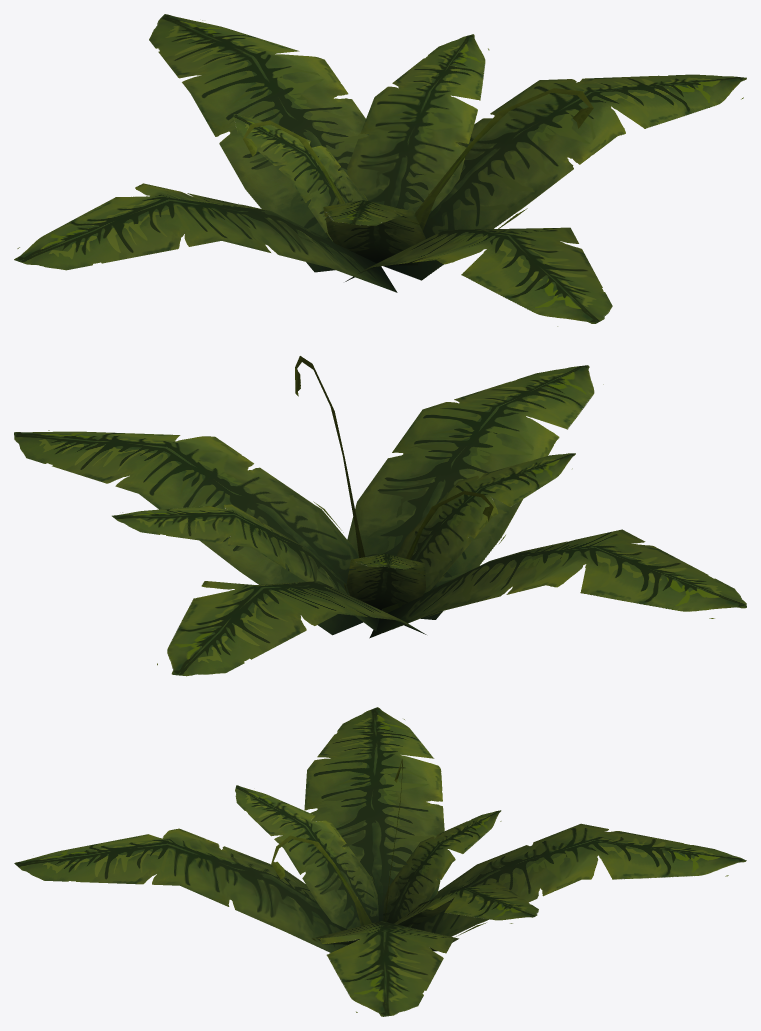
File: fanasty_mod_fern.fbx
The picture shows the model from 3 angles, top to bottom: view 1: azimuth 30°, elevation 25°; view 2: azimuth 150°, elevation 25°; view 3: azimuth 270°, elevation 25°; orthographic projection. The views are drawn at different scales.
Parts seen in each view (by area): view 1: fern; view 2: fern; view 3: fern.
Part boxes in pixels (box(x1,y1,x2,y2)): fern: box(14, 14, 746, 326); fern: box(14, 356, 746, 676); fern: box(14, 707, 746, 1016).
Size of the model in its own units: 4.79 by 1.16 by 4.79.
